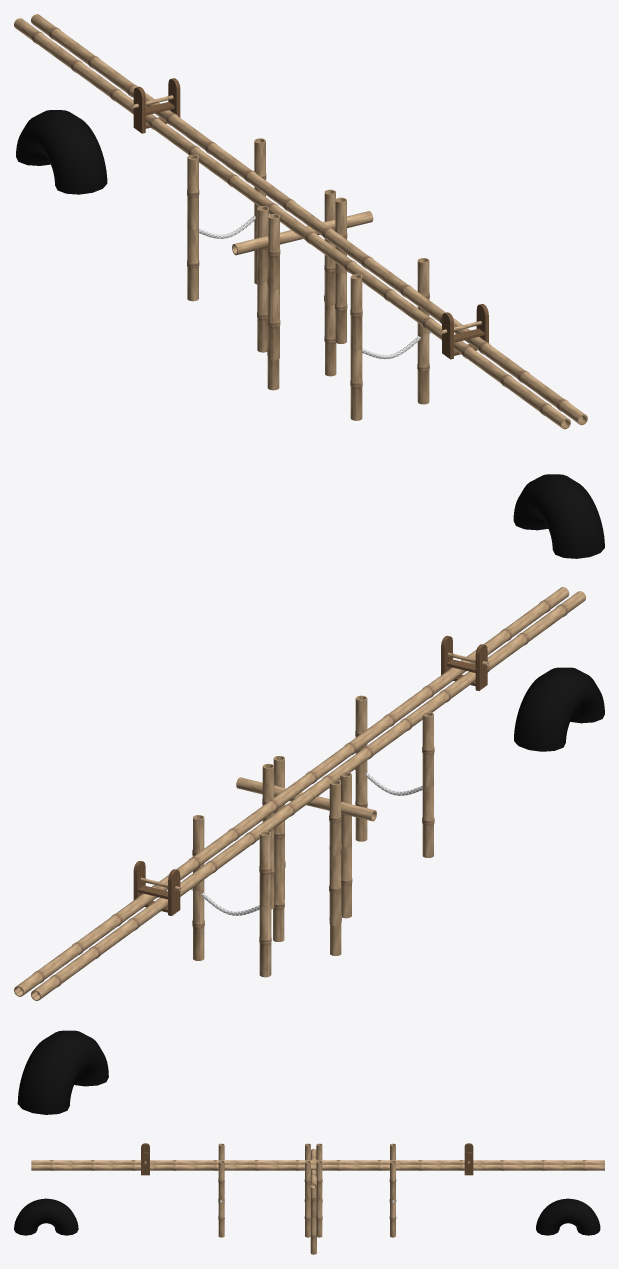
File: PBL竹シーソー.fbx
3 renders of one model, top to bottom at view 1: azimuth 30°, elevation 25°; view 2: azimuth 150°, elevation 25°; view 3: azimuth 270°, elevation 25°, orthographic. The views are drawn at different scales.
Visible parts, largest first — view 1: タイヤ, 竹.005, 竹.007, 竹.006, 竹.001, 持ち手, 竹.003, 竹.002, 竹.004; view 2: タイヤ, 竹.005, 竹.007, 竹.006, 竹.002, 持ち手, 竹.001, 竹.003, 竹.004; view 3: 竹.007, タイヤ, 竹.005, 竹.006, 竹.002, 持ち手, 竹.001, 竹.003, 竹.004.
Boxes of the visible parts, bbox=[...] form: タイヤ: bbox=[16, 110, 604, 558]; 竹.005: bbox=[14, 18, 570, 429]; 竹.007: bbox=[31, 14, 587, 425]; 竹.006: bbox=[187, 138, 429, 420]; 竹.001: bbox=[268, 197, 347, 360]; 持ち手: bbox=[133, 78, 488, 359]; 竹.003: bbox=[267, 239, 336, 390]; 竹.002: bbox=[257, 189, 335, 352]; 竹.004: bbox=[232, 211, 373, 255]; タイヤ: bbox=[17, 667, 604, 1114]; 竹.005: bbox=[31, 591, 585, 1000]; 竹.007: bbox=[14, 587, 569, 996]; 竹.006: bbox=[192, 695, 434, 977]; 竹.002: bbox=[262, 763, 341, 926]; 持ち手: bbox=[133, 635, 487, 915]; 竹.001: bbox=[273, 756, 352, 918]; 竹.003: bbox=[273, 805, 341, 955]; 竹.004: bbox=[236, 777, 376, 821]; 竹.007: bbox=[31, 1164, 604, 1170]; タイヤ: bbox=[14, 1198, 600, 1235]; 竹.005: bbox=[31, 1160, 604, 1164]; 竹.006: bbox=[218, 1143, 396, 1237]; 竹.002: bbox=[316, 1143, 322, 1237]; 持ち手: bbox=[141, 1143, 473, 1175]; 竹.001: bbox=[304, 1143, 311, 1237]; 竹.003: bbox=[310, 1187, 316, 1254]; 竹.004: bbox=[310, 1148, 316, 1188].
Bounding box in the file's own units: 400 × 531 × 2885.
3 materials, 3 textured.
